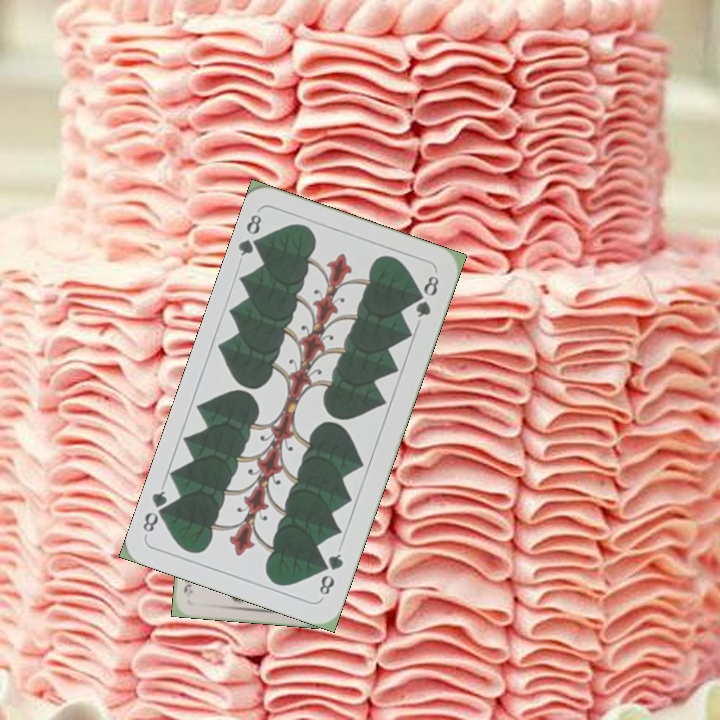G8: (234, 210, 268, 259), (315, 549, 346, 598)
